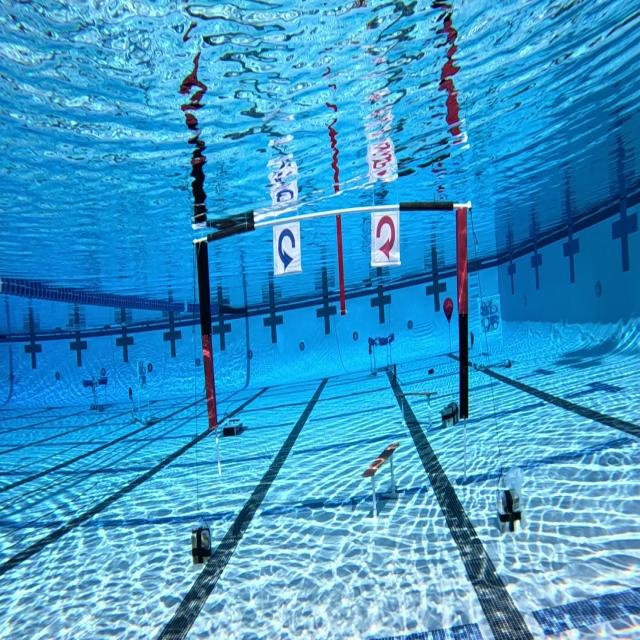blue_side: (270, 221, 302, 274)
red_side: (369, 206, 401, 265)
